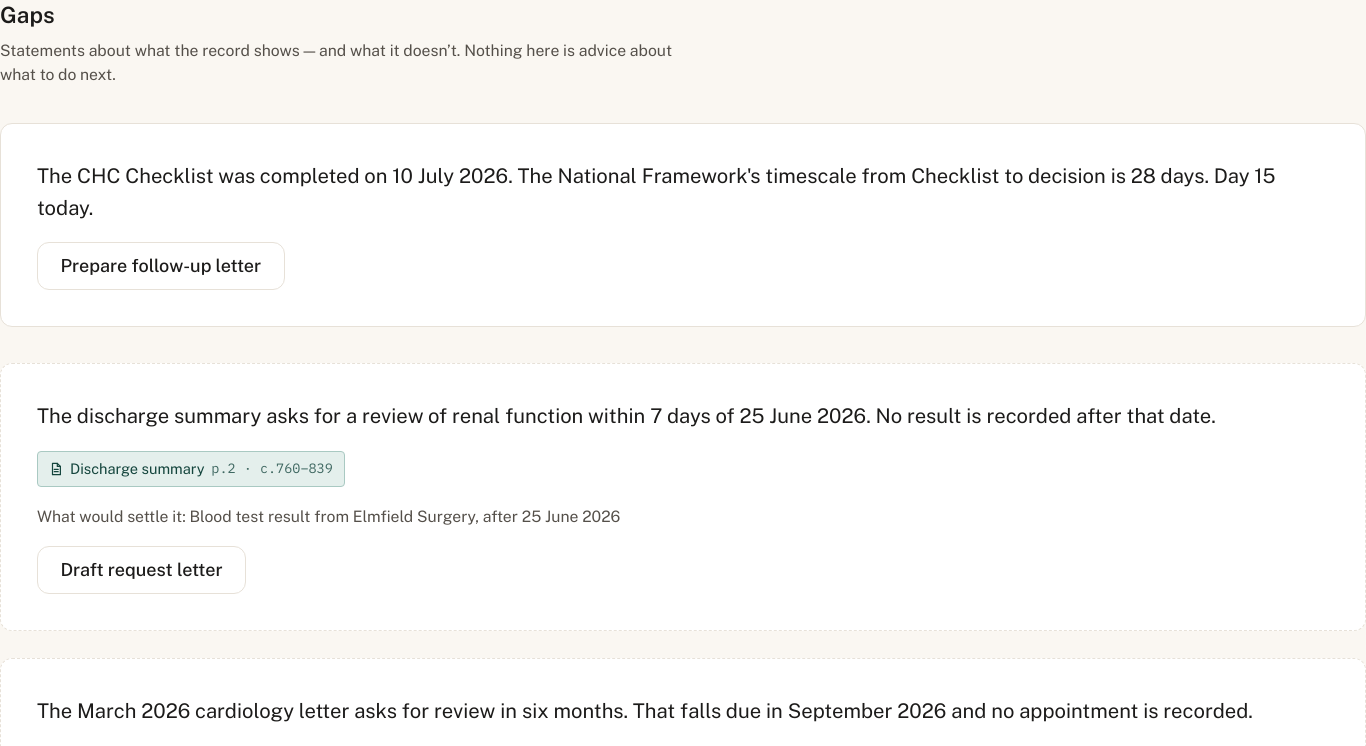
it: LetterModal › wires the gaps page through to draftRequestLetter's output (server-side generation)
Click the button "Draft request letter": (142, 570) [37,546,246,594]
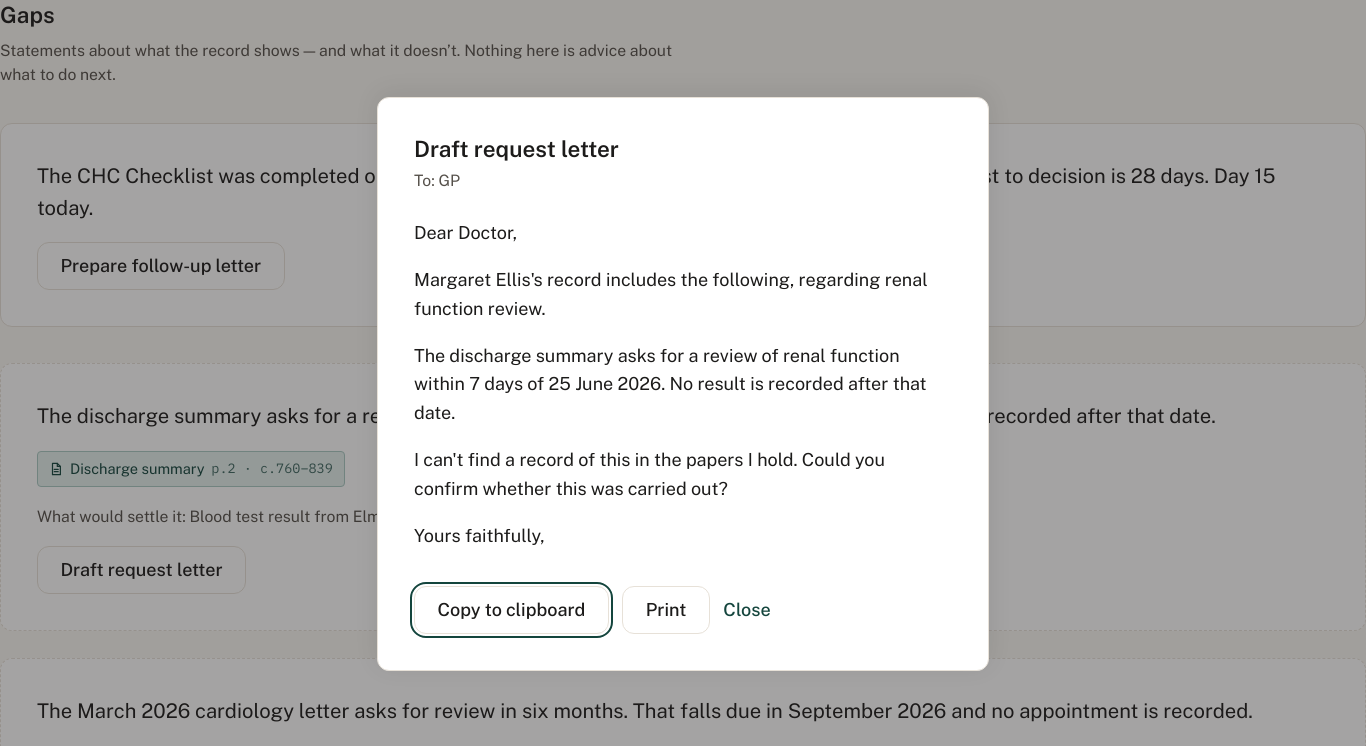
Expected: the text "Dear Doctor," is shown, [414,222,517,243]
Expected: the text "Yours faithfully," is shown, [414,524,545,546]
Expected: the text "The discharge summary asks for a review of renal function within 7 days of 25 June 2026. No result is recorded after tha" below "Dear Doctor," is shown, [414,344,927,423]
